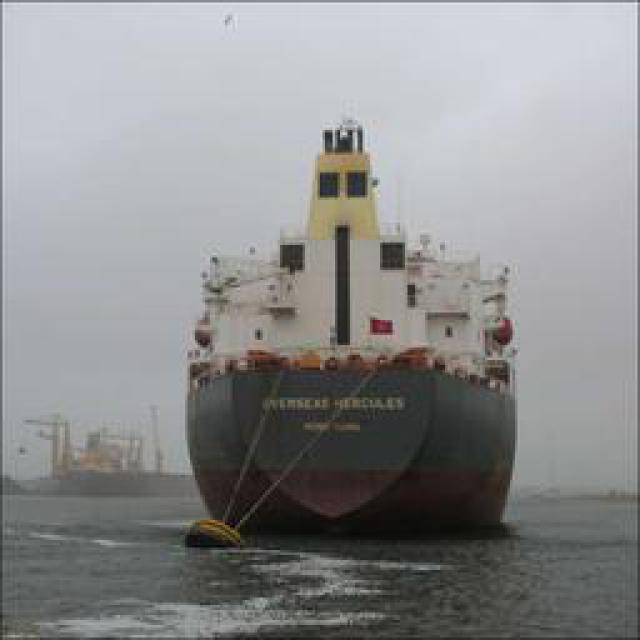Ship: (188, 110, 513, 540)
